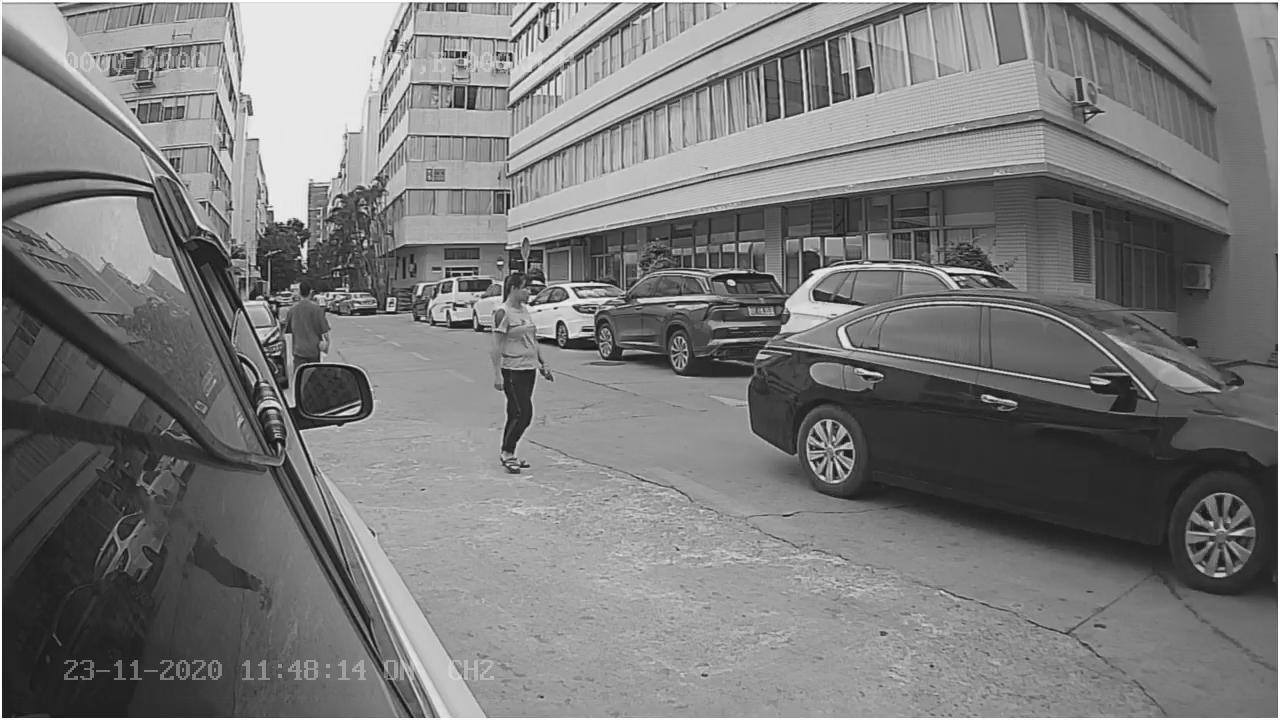person: (482, 257, 556, 472)
